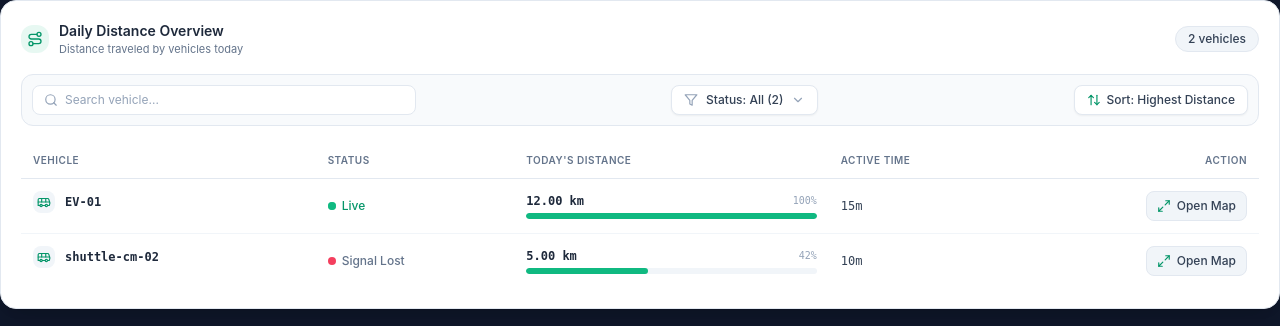
Test: DailyDistanceTable › filters vehicles by search query and status pills
This screenshot has width=1280, height=326.
Expected: the text "EV-01" is shown, [65,194,101,210]
Expected: the text "shuttle-cm-02" is shown, [65,248,159,264]
// Filter by search query: "cm-02"
Step 1. Type "cm-02" into the field with placeholder "Search vehicle..." → (224, 100), box [32,84,416,114]
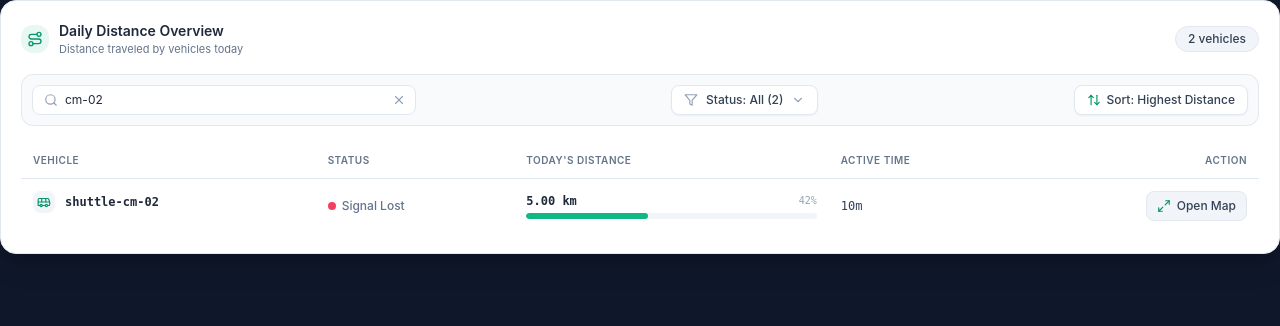
Expected: the row with test id "vehicle-row-shuttle-cm-02" is shown, [21,178,1259,232]
Expected: the row with test id "vehicle-row-EV-01" is gone
// Clear search
Step 2. Click the button named "clear search" → (399, 100), box [390,90,408,108]
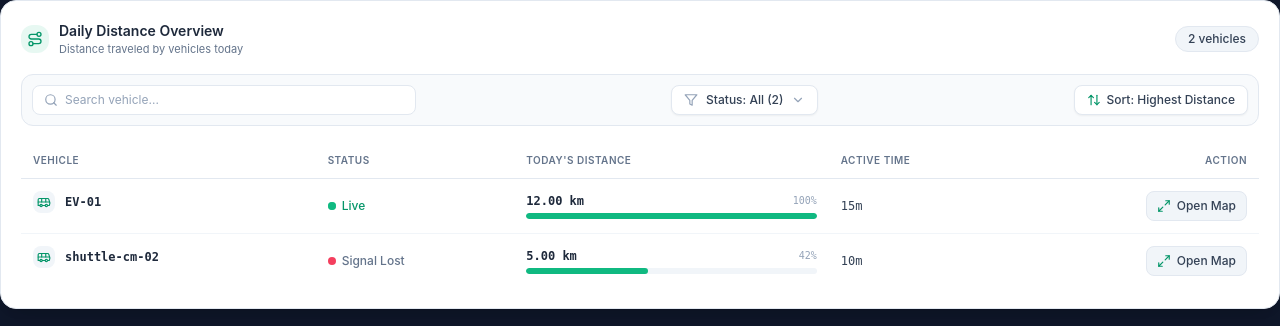
Expected: the row with test id "vehicle-row-EV-01" is shown, [21,178,1259,233]
Step 3. Click the button with aria-label "filter by status" → (745, 100), box [671,84,818,114]
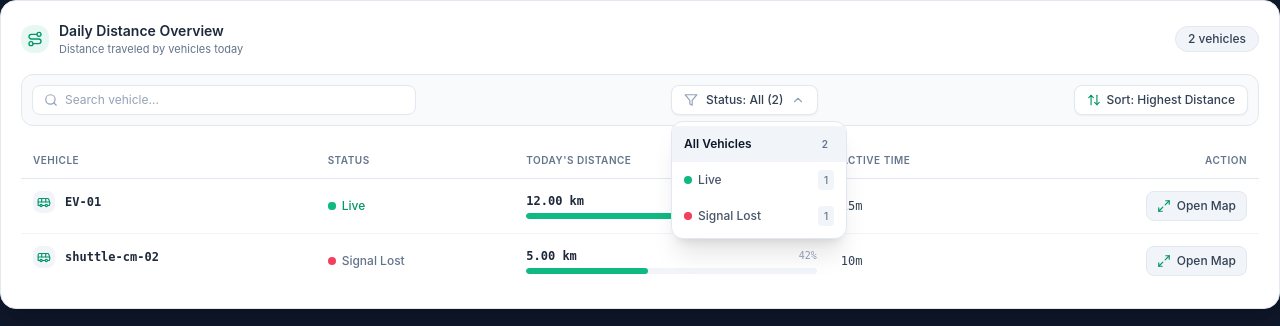
Step 4. Click the button "Live 1" → (759, 180), box [672,162,846,198]
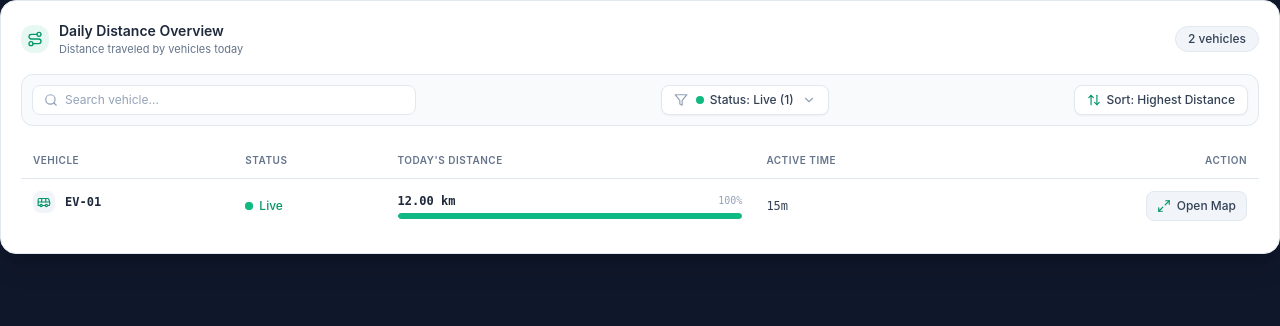
Expected: the row with test id "vehicle-row-EV-01" is shown, [21,178,1259,232]
Expected: the row with test id "vehicle-row-shuttle-cm-02" is gone
Step 5. Click the button with aria-label "filter by status" → (745, 100), box [661,84,829,114]
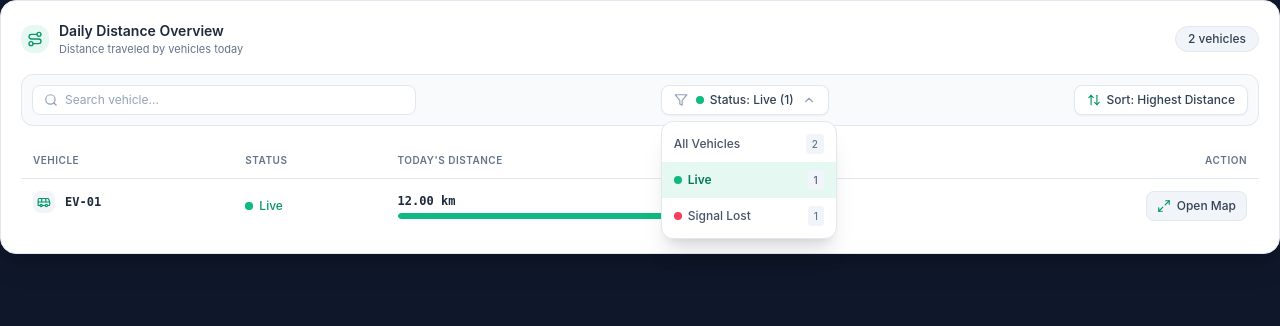
Step 6. Click the button "Signal Lost 1" → (749, 216), box [662,198,836,234]
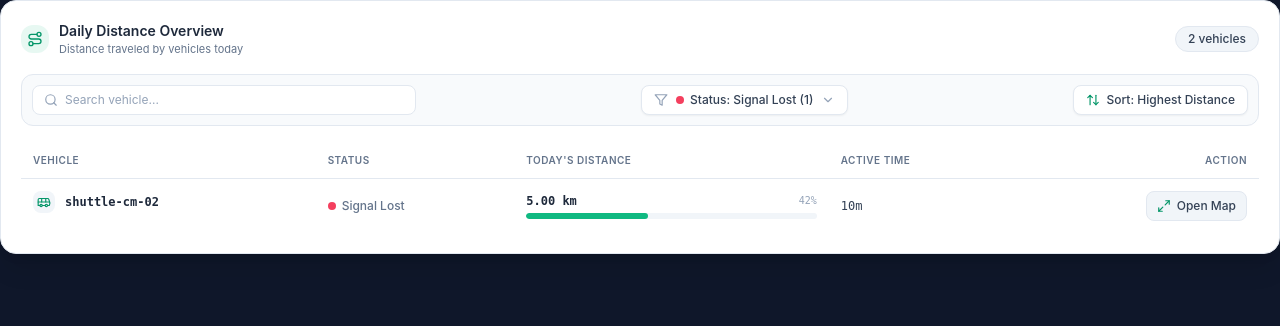
Expected: the row with test id "vehicle-row-EV-01" is gone
Expected: the row with test id "vehicle-row-shuttle-cm-02" is shown, [21,178,1259,232]
